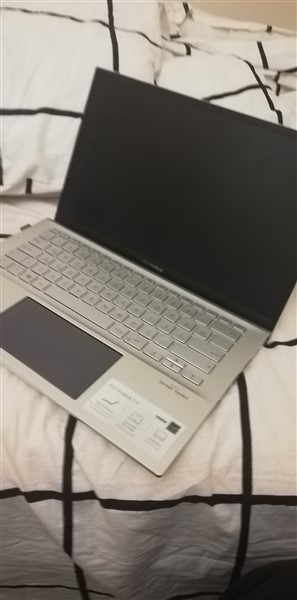laptop: (1, 64, 297, 487)
